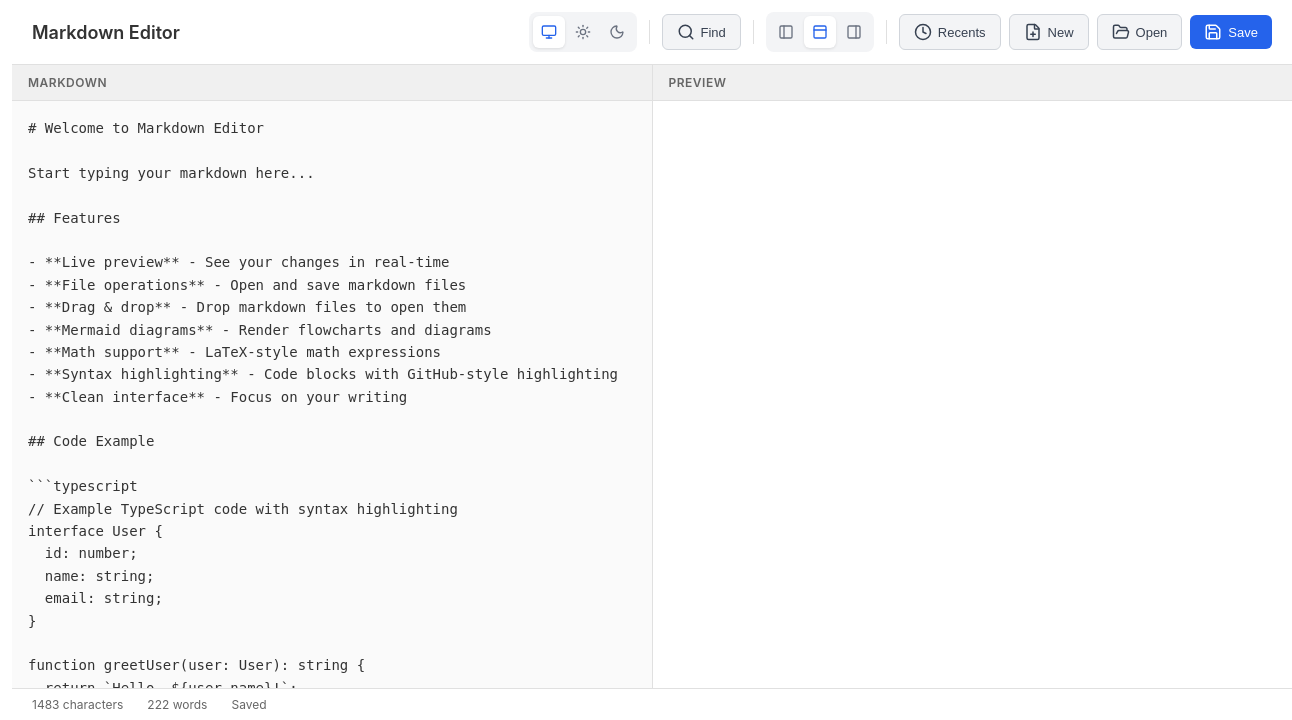
Test: App › displays recent files when available
The width and height of the screenshot is (1292, 720).
Click the button titled "Recent Files" at (950, 32), box [899,14,1000,50]
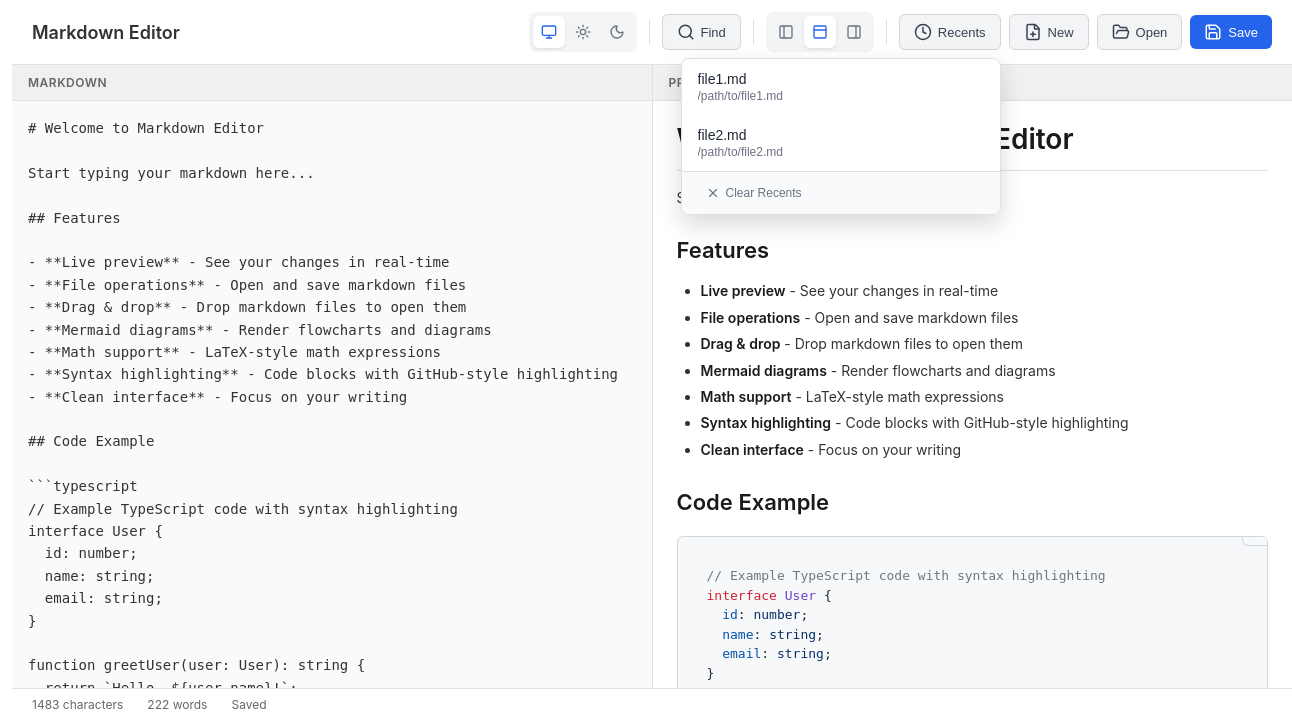
Check: the text "file1.md" is shown, box [698,71,746,87]
Check: the text "file2.md" is shown, box [698,127,746,143]
